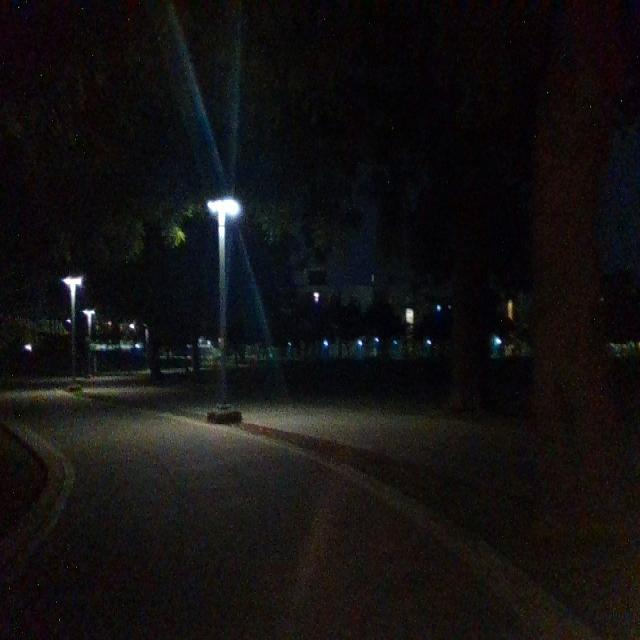lane: (1, 407, 559, 640)
